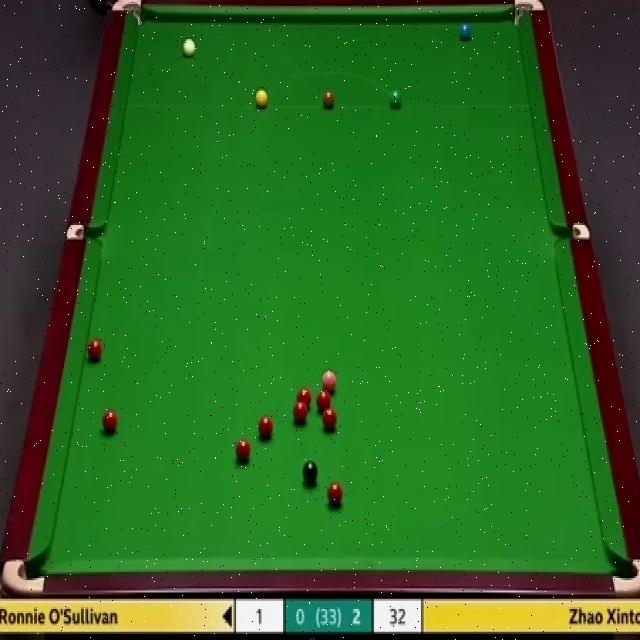black-ball: (302, 458, 320, 488)
blue-ball: (458, 19, 473, 44)
brown-ball: (322, 90, 336, 110)
green-ball: (388, 89, 403, 111)
pink-ball: (318, 368, 338, 393)
red-ball: (101, 408, 119, 436), (328, 483, 346, 508), (236, 437, 251, 463), (258, 414, 273, 440), (292, 402, 308, 426), (86, 338, 102, 362), (322, 407, 338, 430), (296, 387, 312, 408), (316, 390, 332, 410)
white-ball: (180, 35, 197, 60)
yellow-ball: (255, 88, 269, 110)
